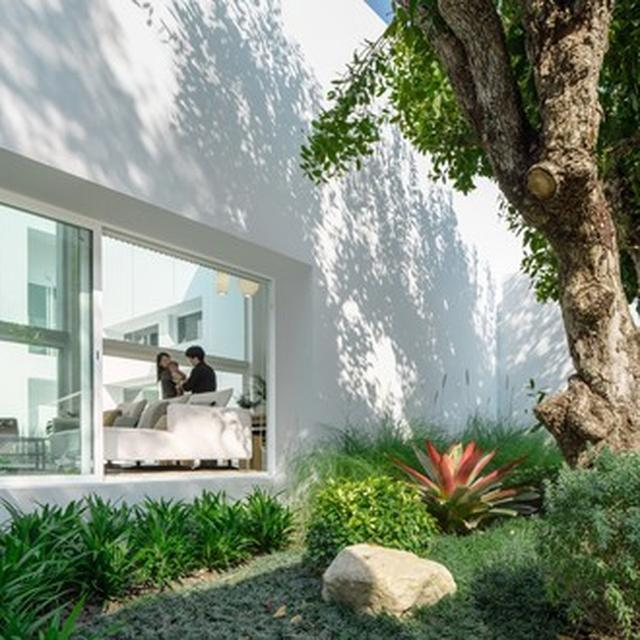building: (2, 0, 575, 509)
